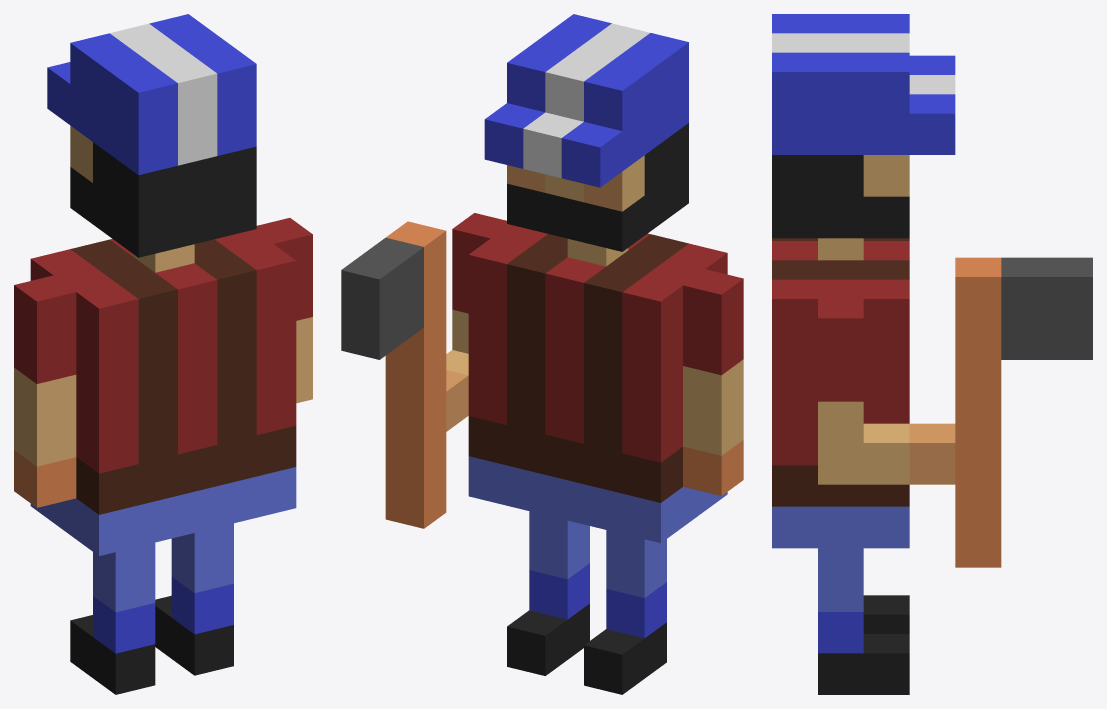
File: lumberjack_2.fbx
3 views of the same model, side by side, from view 1: azimuth 30°, elevation 25°; view 2: azimuth 150°, elevation 25°; view 3: azimuth 270°, elevation 25° (orthographic). The views are drawn at different scales.
Parts seen in each view (by area): view 1: Cube.031; view 2: Cube.031; view 3: Cube.031.
Part boxes in pixels (bbox=[...]): Cube.031: bbox=[14, 14, 312, 694]; Cube.031: bbox=[341, 14, 743, 694]; Cube.031: bbox=[772, 14, 1092, 694].
Bounding box in the file's own units: 70 × 150 × 70.
